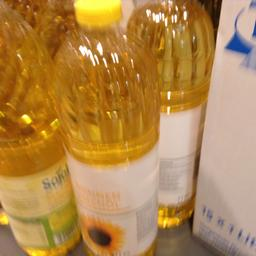oil: (55, 0, 158, 255), (0, 0, 80, 254), (128, 1, 214, 225)
